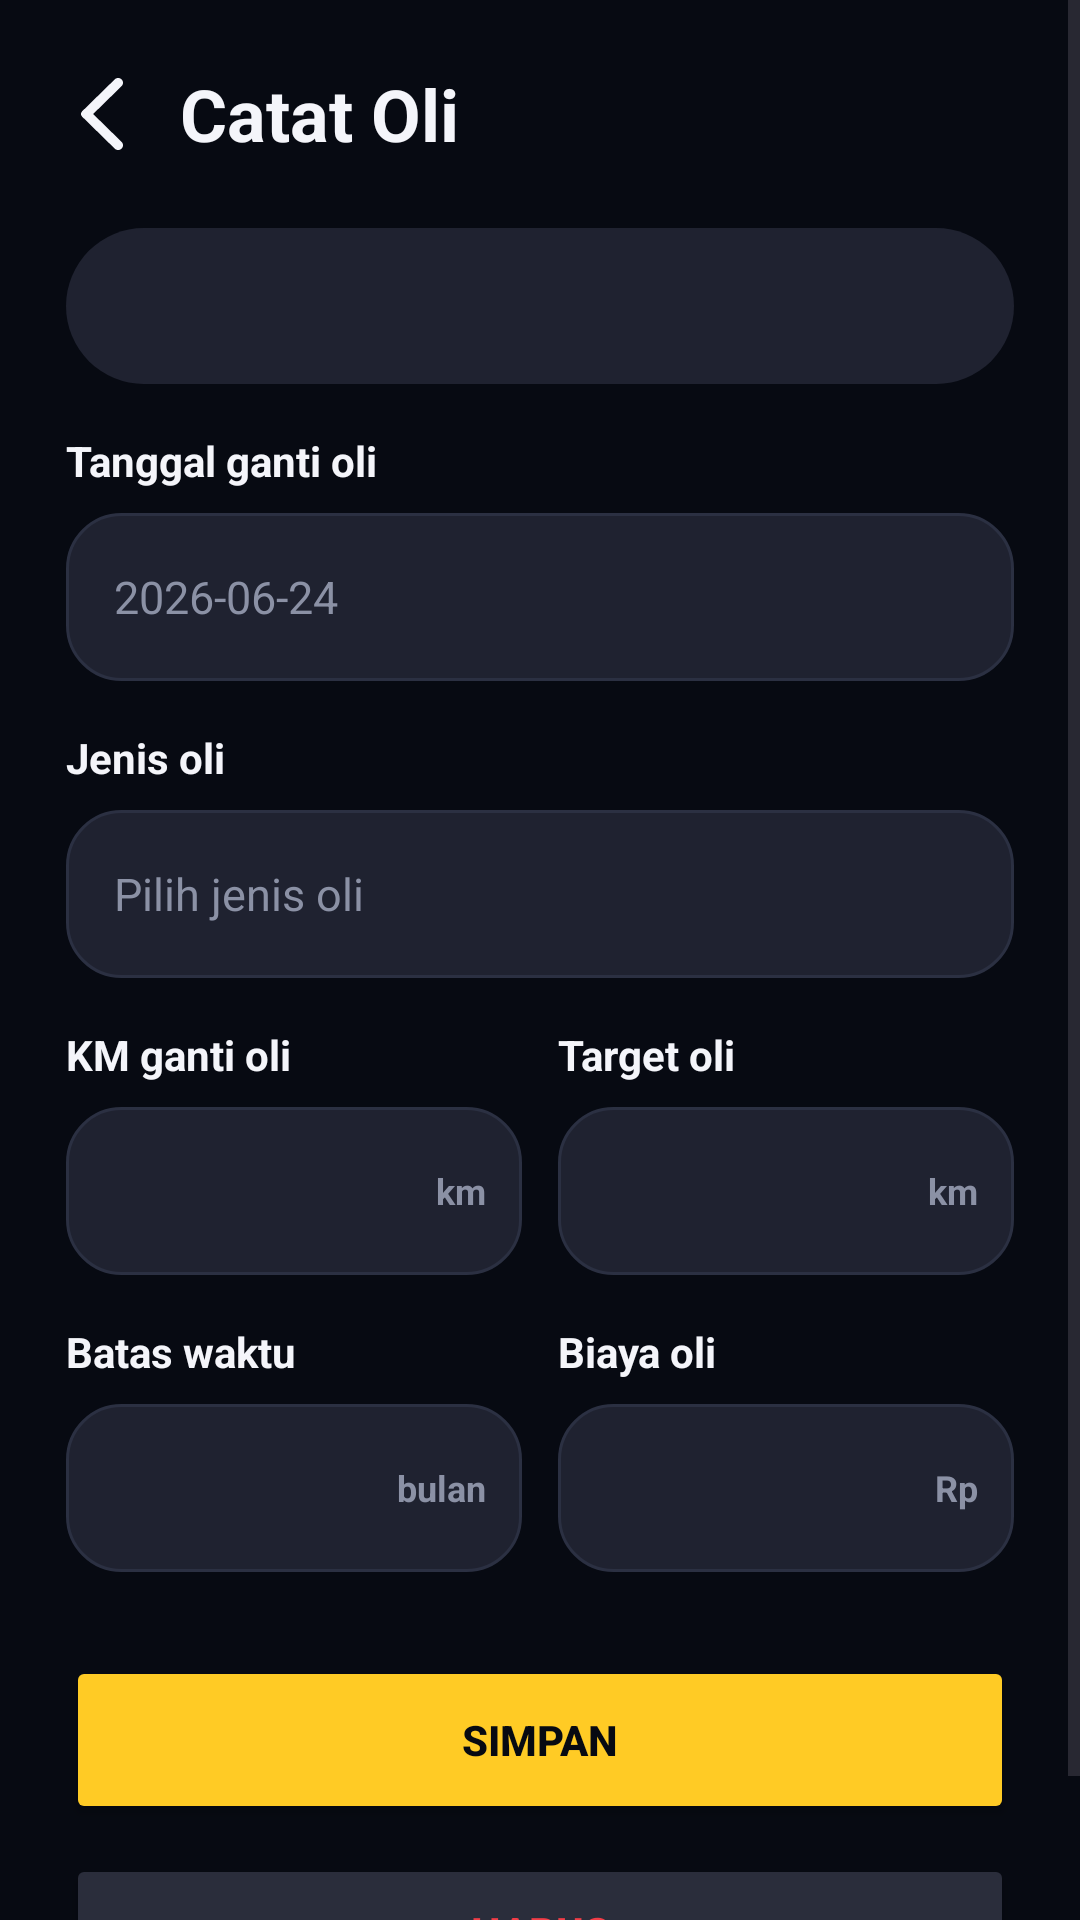

Point at icon controls on the screen. Image size 1080×1920, points as (x,y).
Kembali: (102,114)
